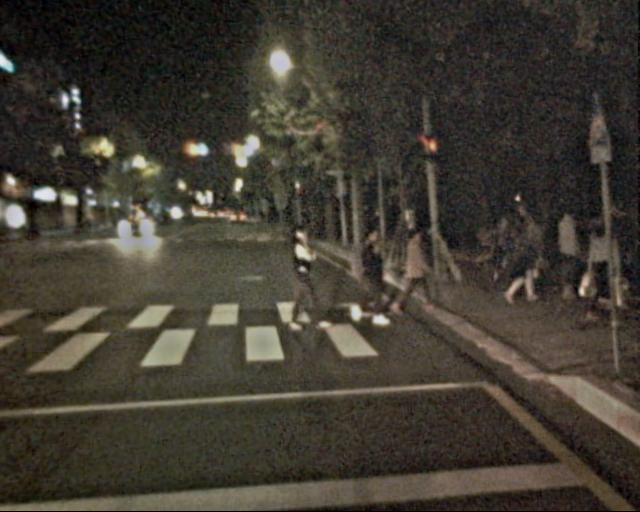person: (574, 213, 622, 329), (276, 222, 323, 336), (346, 226, 387, 326), (498, 210, 544, 298), (550, 205, 590, 302), (604, 202, 640, 301), (396, 228, 433, 319)
